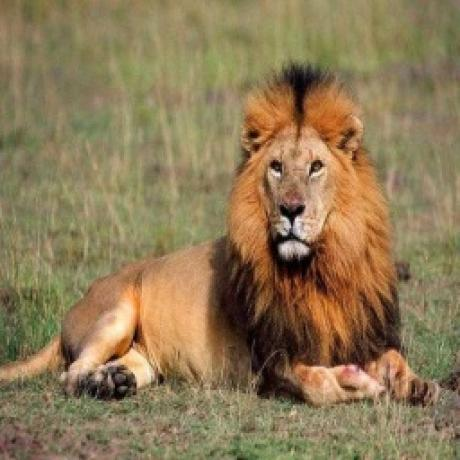Lion: (0, 59, 442, 411)
